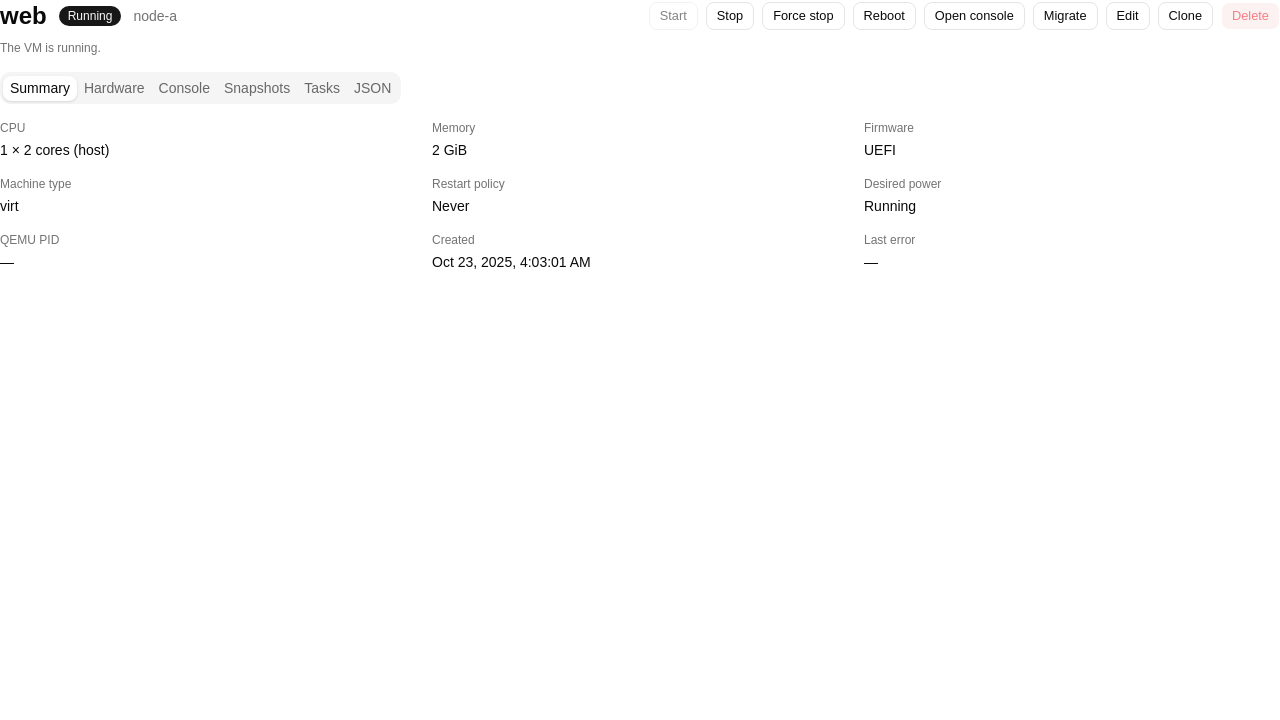
Test case: shows the server's refusal in the dialog
The width and height of the screenshot is (1280, 720).
Step 1. Click the button "Migrate" → (1065, 16), box [1033,2,1098,30]
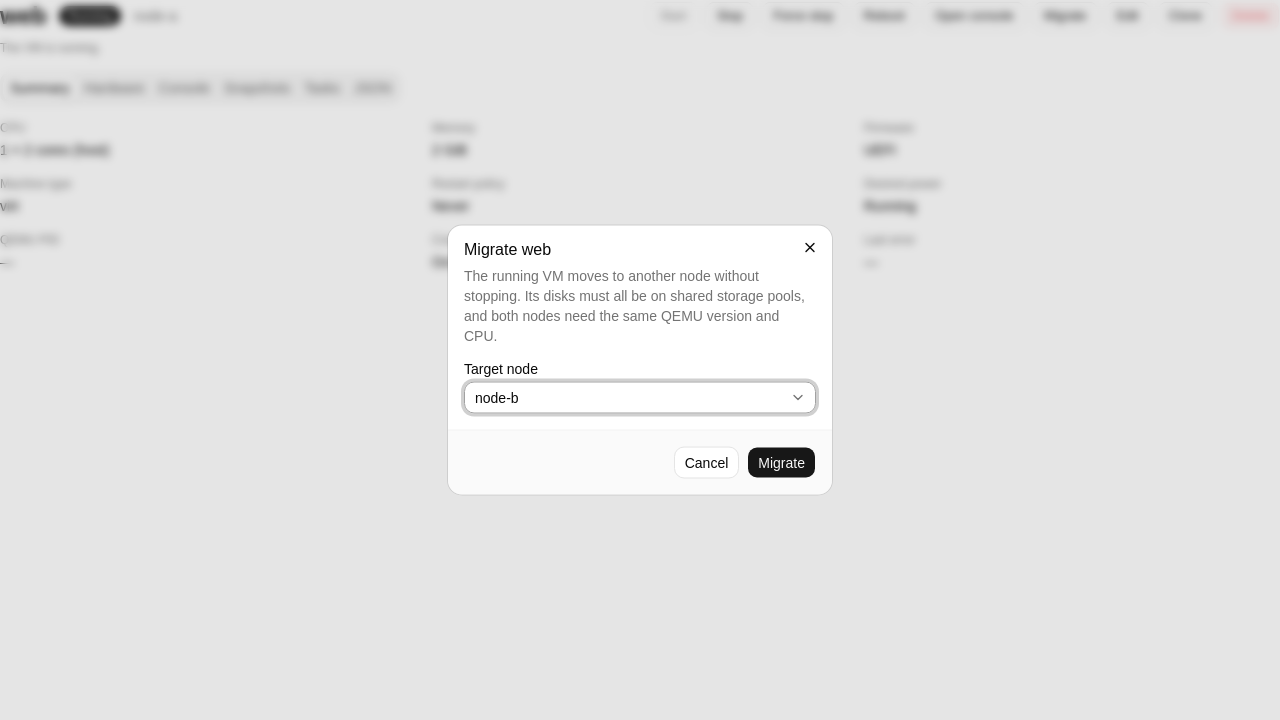
Now the dropdown labelled "Target node" shows "node-b", box [464,382,816,414]
Step 2. Click the button "Migrate" → (782, 462), box [747,446,816,478]
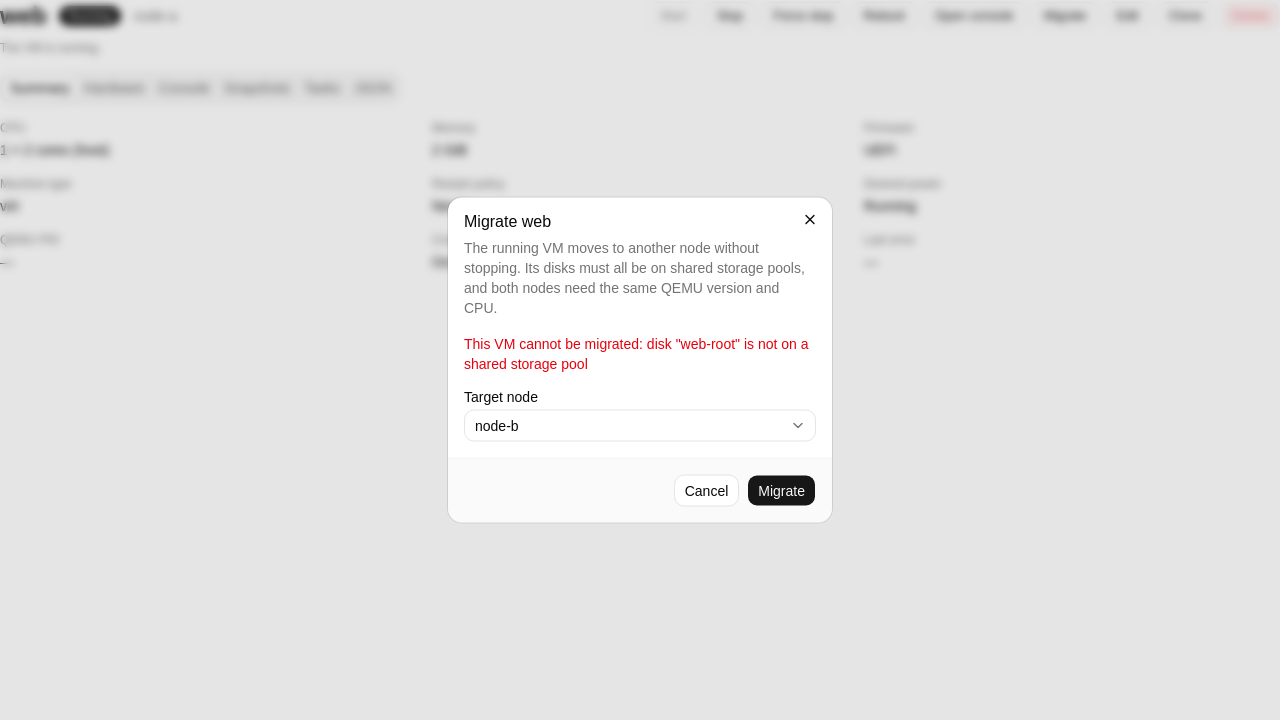
Now the text "This VM cannot be migrated: disk \"web-root\" is not on a shared storage pool" is shown, box [464,334,816,374]
